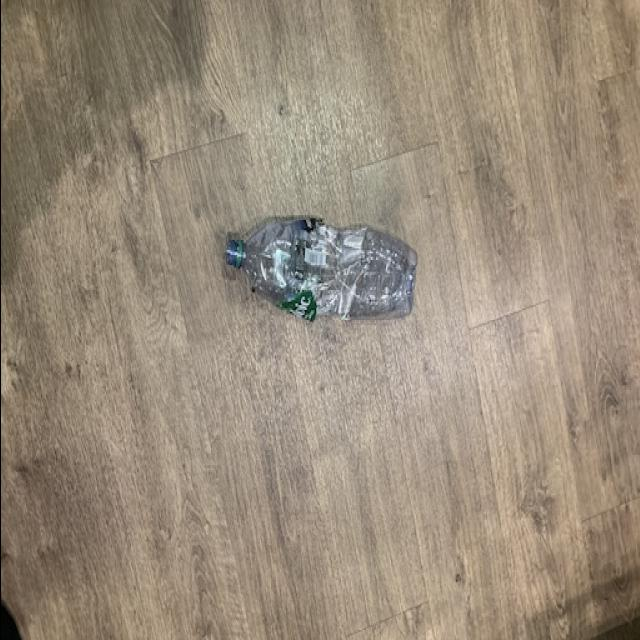litter: (218, 212, 418, 326)
